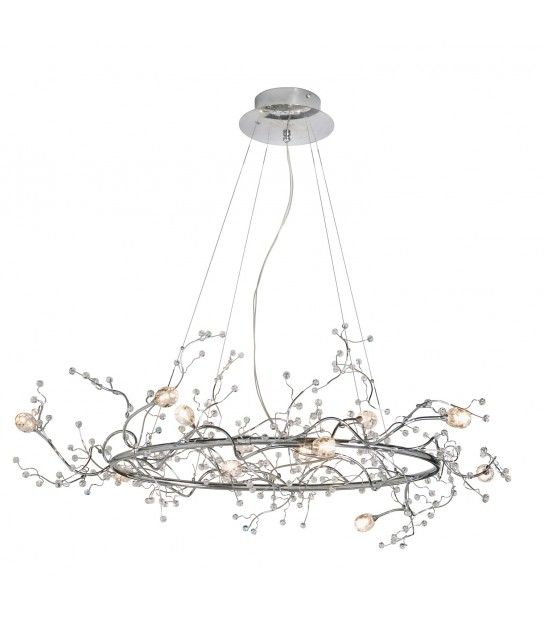chandelier: (7, 82, 527, 555)
